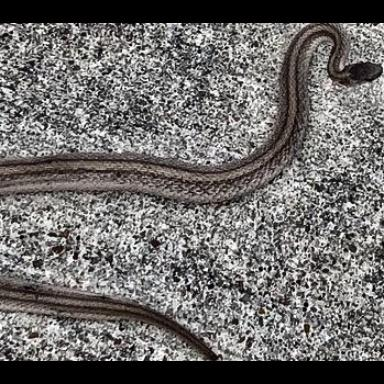snake: (0, 26, 384, 205), (0, 278, 217, 359)
